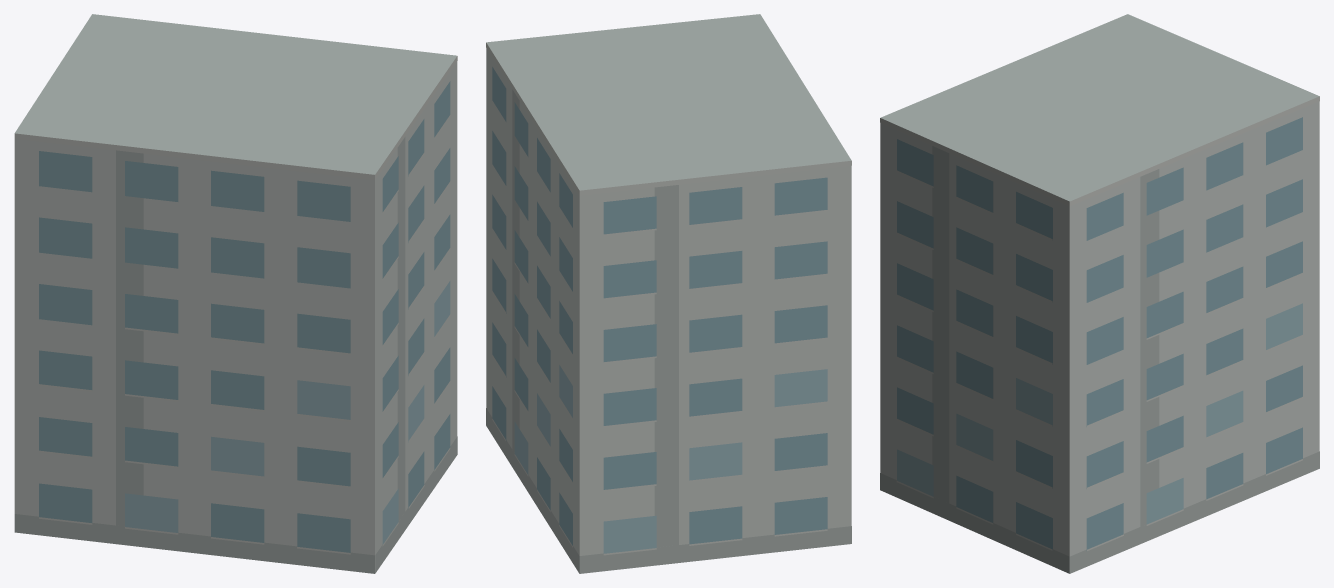
File: survey-upis-32822668.glb
3 renders of one model, left to right at view 1: azimuth 30°, elevation 25°; view 2: azimuth 150°, elevation 25°; view 3: azimuth 270°, elevation 25°, orthographic. The views are drawn at different scales.
Visible parts, largest first — view 1: survey-upis-32822668.tmp; view 2: survey-upis-32822668.tmp; view 3: survey-upis-32822668.tmp.
Boxes of the visible parts, x1=… form: survey-upis-32822668.tmp: x1=14, y1=14, x2=457, y2=573; survey-upis-32822668.tmp: x1=486, y1=14, x2=851, y2=573; survey-upis-32822668.tmp: x1=880, y1=14, x2=1319, y2=573.
Size of the model in its own units: 19.77 by 18.3 by 19.58.
